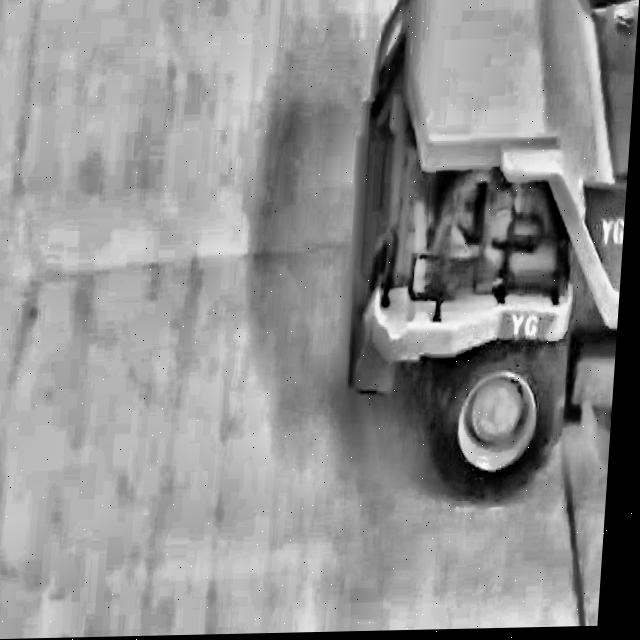dump_truck: (293, 0, 640, 515)
